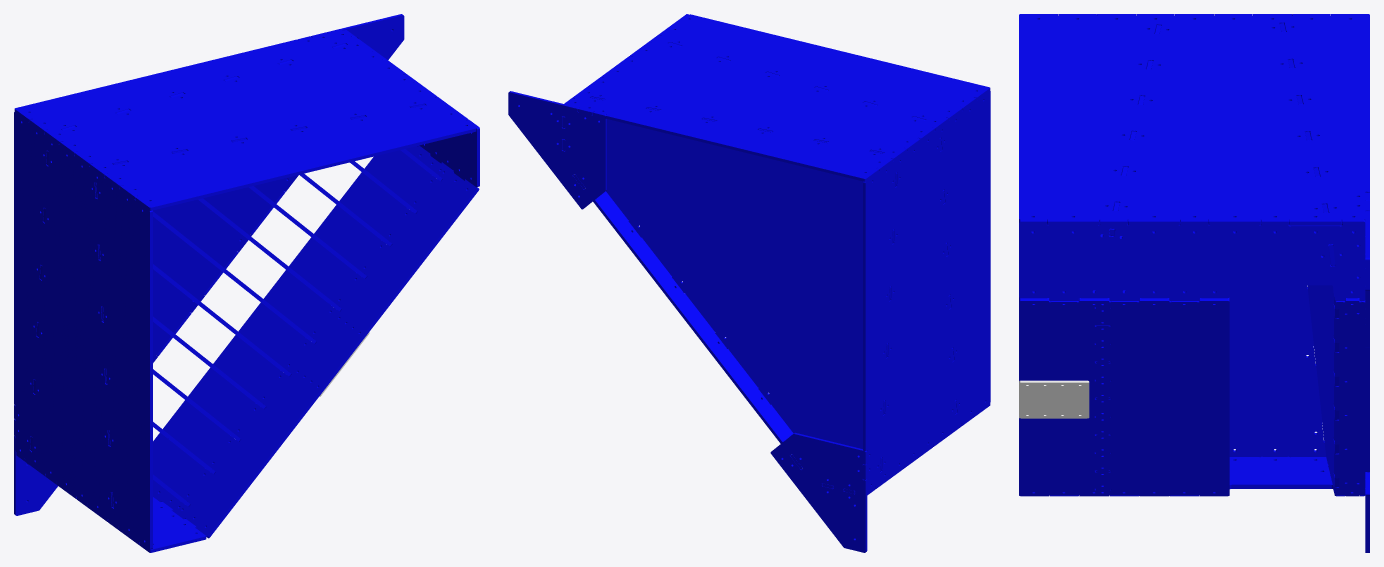
File: ElectrolyzerOptimized_FBX.fbx
The picture shows the model from 3 angles, left to right: view 1: azimuth 30°, elevation 25°; view 2: azimuth 150°, elevation 25°; view 3: azimuth 270°, elevation 25°; orthographic projection. The views are drawn at different scales.
Parts seen in each view (by area): view 1: Body7, Body16, Body23, Body17, Body19, Body5, Body15, Body20, Body6, Body14, Body22, Body18 (+1 smaller); view 2: Body17, Body7, Body16, Body15, Body20, Body10; view 3: Body16, Body23, Body19, Body7, Body10, Body17, Body5, Body9, Body20.
Part boxes in pixels (x1,y1,x2,y2): Body7: (14,112,152,549); Body16: (14,30,476,210); Body23: (153,145,479,538); Body17: (30,43,346,451); Body19: (343,30,479,186); Body5: (16,452,206,552); Body15: (14,405,57,515); Body20: (297,14,404,59); Body6: (153,211,316,343); Body14: (198,198,341,311); Body22: (153,264,291,376); Body18: (249,186,367,278); Body17: (590,97,897,471); Body7: (863,91,990,492); Body16: (567,14,990,181); Body15: (770,432,867,552); Body20: (508,91,606,209); Body10: (573,174,802,469); Body16: (1019,14,1369,225); Body23: (1019,297,1229,496); Body19: (1019,219,1365,300); Body7: (1032,14,1359,457); Body10: (1335,298,1369,496); Body17: (1279,23,1339,491); Body5: (1049,456,1365,496); Body9: (1019,380,1089,418); Body20: (1365,192,1369,347).
Size of the model in its own units: 82.45 by 82.45 by 50.
